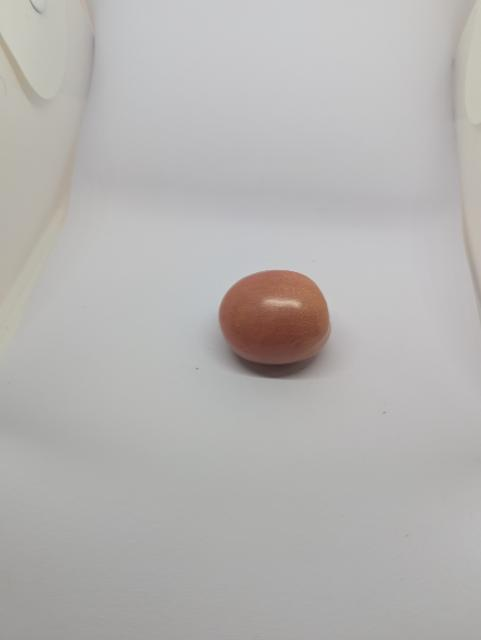red: (215, 264, 340, 374)
